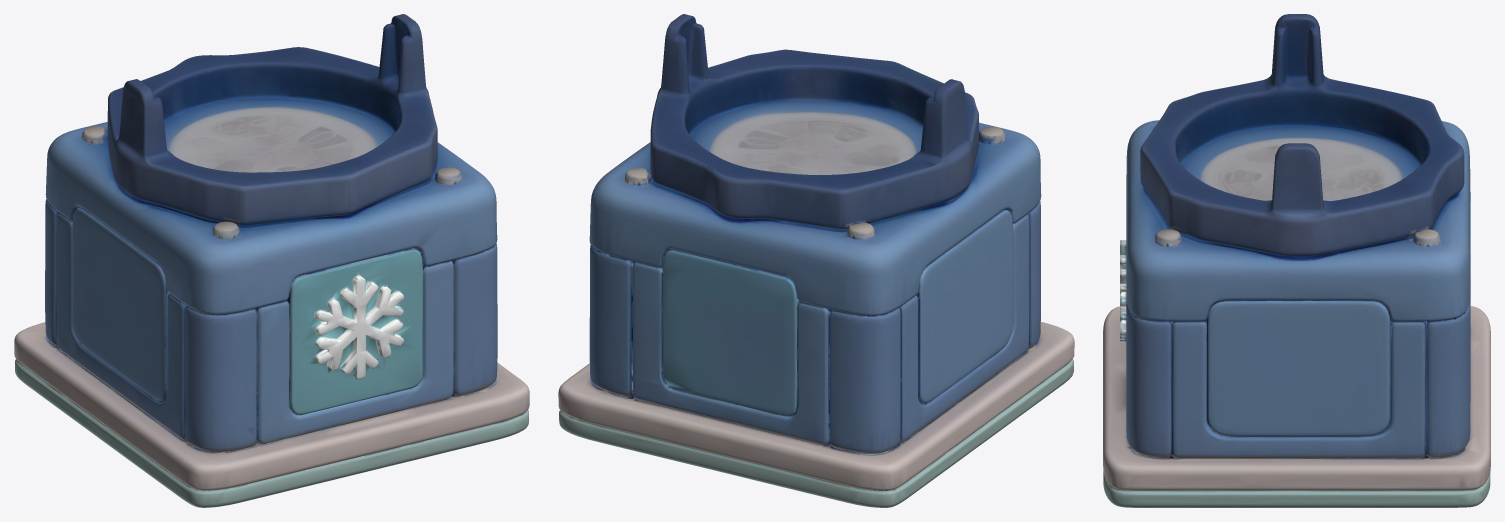
The model's file is cooler-base.glb.
The picture shows the model from 3 angles, left to right: view 1: azimuth 30°, elevation 25°; view 2: azimuth 150°, elevation 25°; view 3: azimuth 270°, elevation 25°; orthographic projection.
Parts seen in each view (by area): view 1: cooler-base; view 2: cooler-base; view 3: cooler-base.
Boxes of the visible parts, x1=… form: cooler-base: x1=14, y1=14, x2=529, y2=507; cooler-base: x1=558, y1=14, x2=1074, y2=507; cooler-base: x1=1103, y1=14, x2=1490, y2=507.
Size of the model in its own units: 1.12 by 1.1 by 1.11.
Materials: 1 (1 with a texture image).
